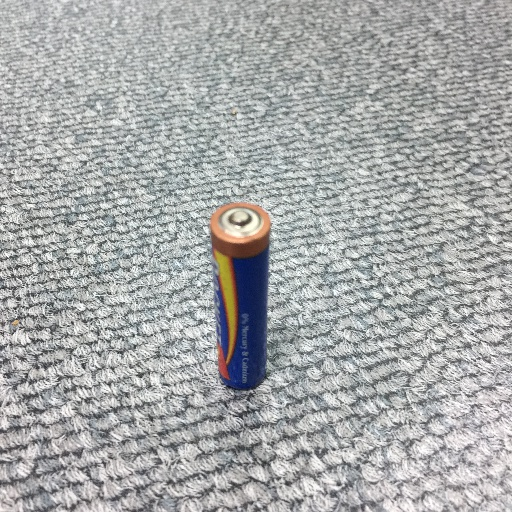Battery_0: (201, 191, 281, 402)
